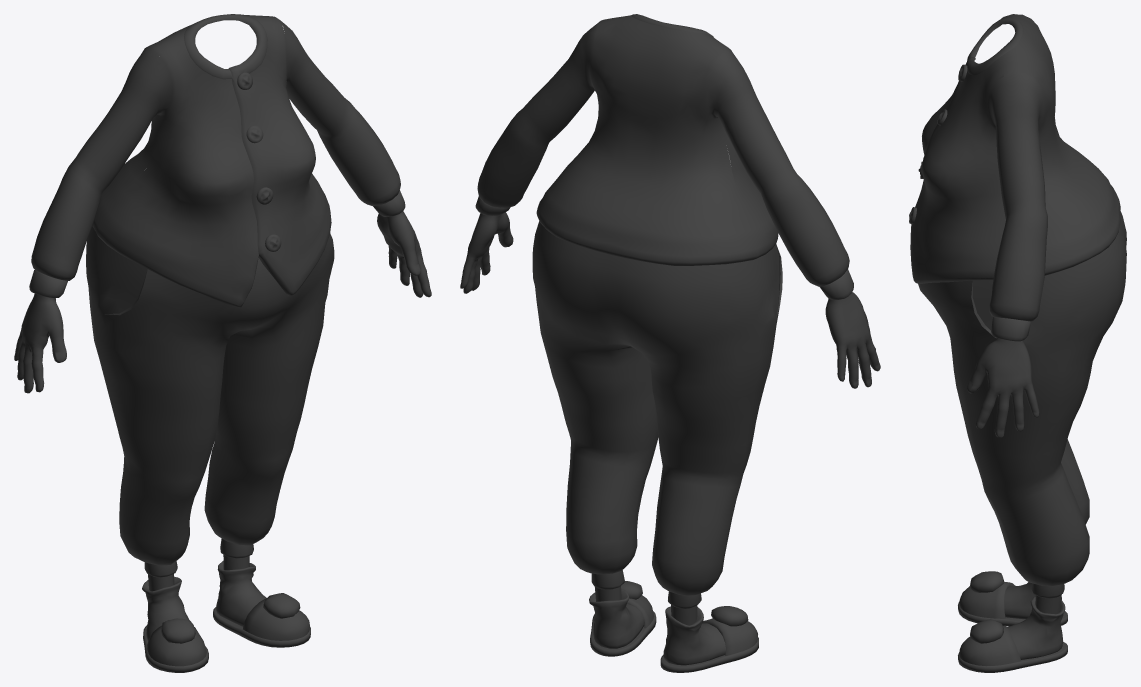
File: Babka_Body.glb
The picture shows the model from 3 angles, left to right: view 1: azimuth 30°, elevation 25°; view 2: azimuth 150°, elevation 25°; view 3: azimuth 270°, elevation 25°; orthographic projection. The views are drawn at different scales.
Parts seen in each view (by area): view 1: geometry_0; view 2: geometry_0; view 3: geometry_0.
Part boxes in pixels (x1=…): geometry_0: x1=14, y1=14, x2=431, y2=672; geometry_0: x1=460, y1=14, x2=880, y2=672; geometry_0: x1=909, y1=14, x2=1126, y2=672.
Bounding box in the file's own units: 0.7419 × 1.11 × 0.3594.
1 material, 1 textured.
